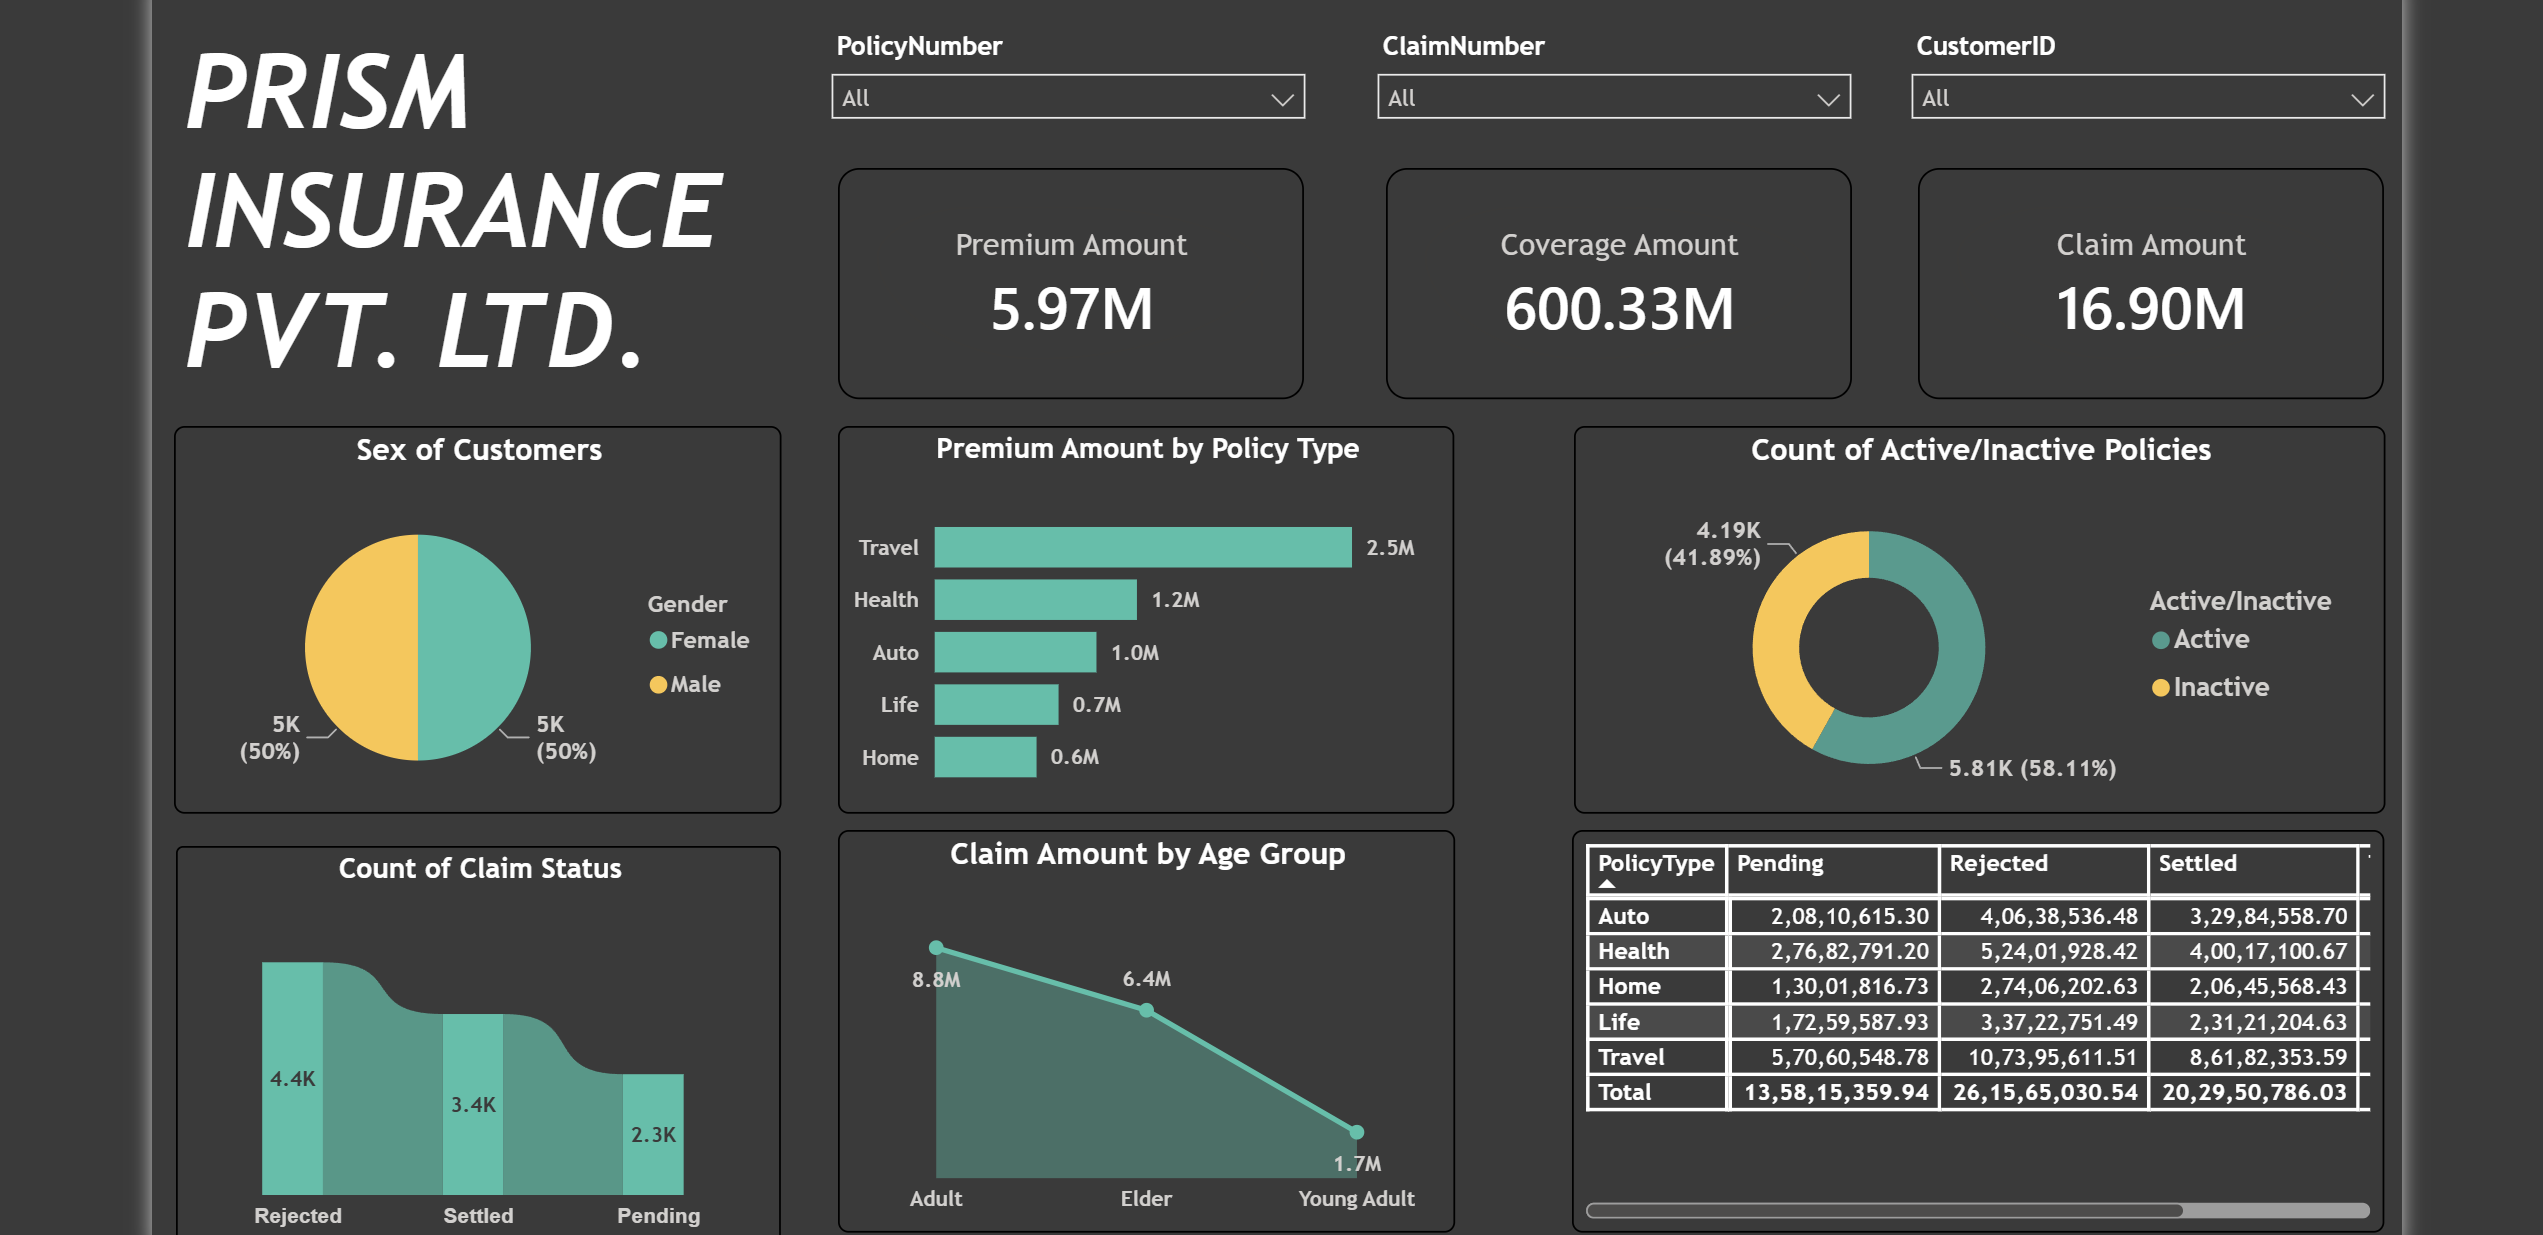

The page's visual inventory and layout, read from the dashboard file:
{"tool":"powerbi","page":{"name":"Page 1","canvas":[1280,720],"ordinal":0},"visuals":[{"type":"slicer","fields":{"Values":["InsuranceData.PolicyNumber"]},"box":[376.7,23,289.4,82.7],"z":0},{"type":"slicer","fields":{"Values":["InsuranceData.ClaimNumber"]},"box":[687.5,23,289.4,82.7],"z":1000},{"type":"slicer","fields":{"Values":["InsuranceData.CustomerID"]},"box":[990.6,23,289.4,82.7],"z":2000},{"type":"textbox","box":[13.8,23,362.9,238.9],"z":3000},{"type":"cardVisual","fields":{"Data":["Sum(InsuranceData.PremiumAmount)"]},"box":[390.4,105.6,264.9,131.7],"z":4000},{"type":"cardVisual","fields":{"Data":["Sum(InsuranceData.CoverageAmount)"]},"box":[701.2,105.6,264.9,131.7],"z":5000},{"type":"cardVisual","fields":{"Data":["Sum(InsuranceData.ClaimAmount)"]},"box":[1004.4,105.6,264.9,131.7],"z":6000},{"type":"pieChart","title":"Sex of Customers","fields":{"Category":["InsuranceData.Gender"],"Y":["CountNonNull(InsuranceData.Gender)"]},"box":[12.7,252.4,345.5,220.6],"z":7000},{"type":"ribbonChart","title":"Count of Claim Status ","fields":{"Category":["InsuranceData.ClaimStatus"],"Y":["CountNonNull(InsuranceData.ClaimStatus)"]},"box":[14,490.8,344.2,229.5],"z":8000},{"type":"barChart","title":"Premium Amount by Policy Type","fields":{"Category":["InsuranceData.PolicyType"],"Y":["Sum(InsuranceData.PremiumAmount)"]},"box":[390.1,252.4,350.6,220.6],"z":9000},{"type":"lineChart","title":"Claim Amount by Age Group","fields":{"Category":["InsuranceData.Age Group"],"Y":["Sum(InsuranceData.ClaimAmount)"]},"box":[390.1,481.9,351,229],"z":10000},{"type":"donutChart","title":"Count of Active/Inactive Policies ","fields":{"Category":["InsuranceData.Active/Inactive"],"Y":["CountNonNull(InsuranceData.Active/Inactive)"]},"box":[808.3,252.4,461.5,220.6],"z":11000},{"type":"pivotTable","fields":{"Columns":["InsuranceData.ClaimStatus"],"Rows":["InsuranceData.PolicyType"],"Values":["Sum(InsuranceData.CoverageAmount)"]},"box":[808,482,462,229],"z":12000}]}

Visuals, with their boxes on the page's 1280x720 design canvas (x1, y1, x2, y2). These are canvas units, not pixel positions in the 2543x1235 screenshot, which may show the page scaled, cropped or inside an application window:
slicer - InsuranceData.PolicyNumber: (left=377, top=23, right=666, bottom=106)
slicer - InsuranceData.ClaimNumber: (left=688, top=23, right=977, bottom=106)
slicer - InsuranceData.CustomerID: (left=991, top=23, right=1280, bottom=106)
textbox: (left=14, top=23, right=377, bottom=262)
cardVisual - Sum(InsuranceData.PremiumAmount): (left=390, top=106, right=655, bottom=237)
cardVisual - Sum(InsuranceData.CoverageAmount): (left=701, top=106, right=966, bottom=237)
cardVisual - Sum(InsuranceData.ClaimAmount): (left=1004, top=106, right=1269, bottom=237)
"Sex of Customers" pieChart: (left=13, top=252, right=358, bottom=473)
"Count of Claim Status " ribbonChart: (left=14, top=491, right=358, bottom=720)
"Premium Amount by Policy Type" barChart: (left=390, top=252, right=741, bottom=473)
"Claim Amount by Age Group" lineChart: (left=390, top=482, right=741, bottom=711)
"Count of Active/Inactive Policies " donutChart: (left=808, top=252, right=1270, bottom=473)
pivotTable - InsuranceData.ClaimStatus x InsuranceData.PolicyType: (left=808, top=482, right=1270, bottom=711)
